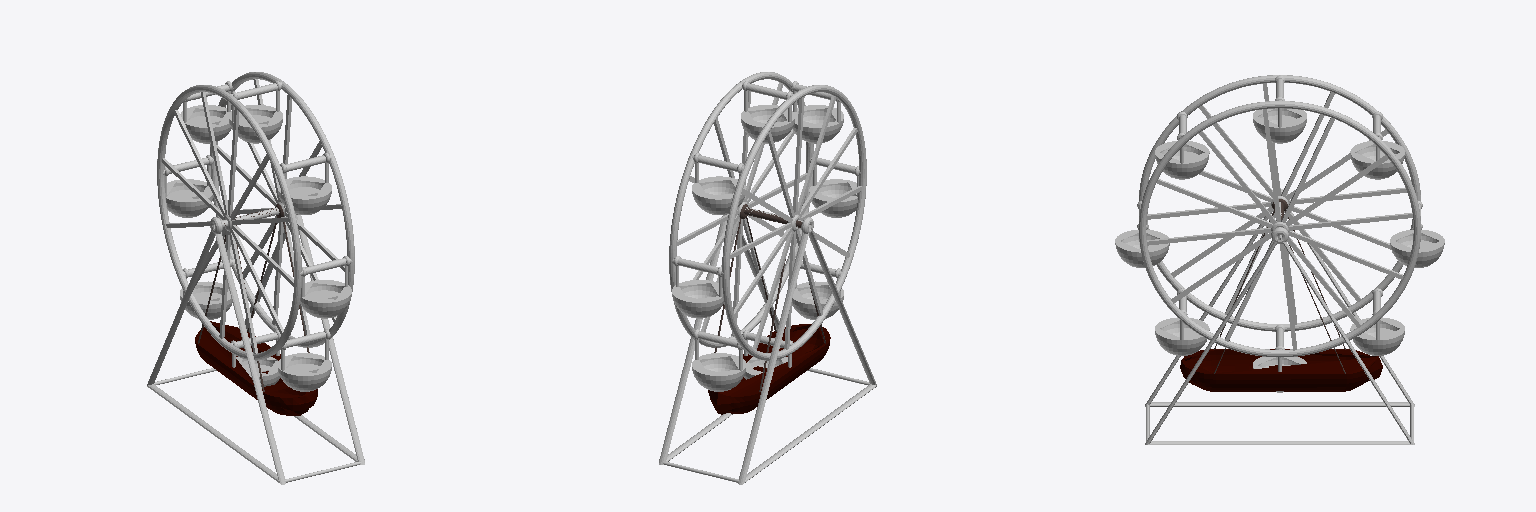
Rendered from barco.obj.
3 views of the same model, side by side, from view 1: azimuth 30°, elevation 25°; view 2: azimuth 150°, elevation 25°; view 3: azimuth 270°, elevation 25° (orthographic).
Parts seen in each view (by area): view 1: Sphere.001_Sphere.008, Cylinder.008, Sphere_Sphere.001, Torus.002; view 2: Sphere.001_Sphere.008, Cylinder.008, Sphere_Sphere.001, Torus.002; view 3: Sphere.001_Sphere.008, Cylinder.008, Sphere_Sphere.001.
Boxes of the visible parts, box(x1,y1,x2,y2) form: Sphere.001_Sphere.008: box(147, 72, 364, 484); Cylinder.008: box(157, 72, 354, 360); Sphere_Sphere.001: box(195, 321, 317, 415); Torus.002: box(198, 204, 309, 391); Sphere.001_Sphere.008: box(659, 72, 876, 484); Cylinder.008: box(669, 72, 865, 360); Sphere_Sphere.001: box(708, 324, 830, 414); Torus.002: box(714, 204, 825, 391); Sphere.001_Sphere.008: box(1115, 75, 1444, 444); Cylinder.008: box(1139, 75, 1420, 357); Sphere_Sphere.001: box(1180, 349, 1382, 391).
Bounding box in the file's own units: 6.5 × 24.5 × 21.6.